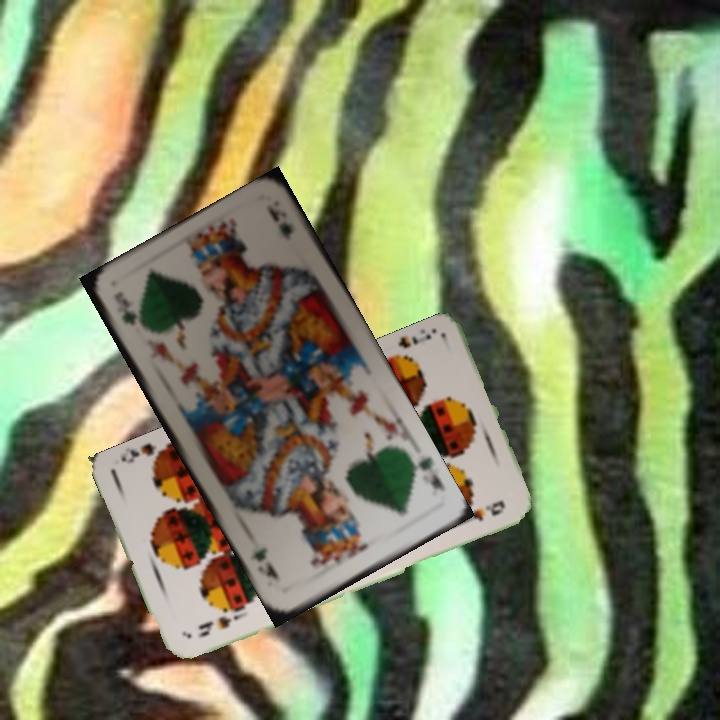GK: (405, 452, 448, 494), (118, 292, 139, 328)
S9: (385, 329, 434, 363), (192, 611, 241, 640)
